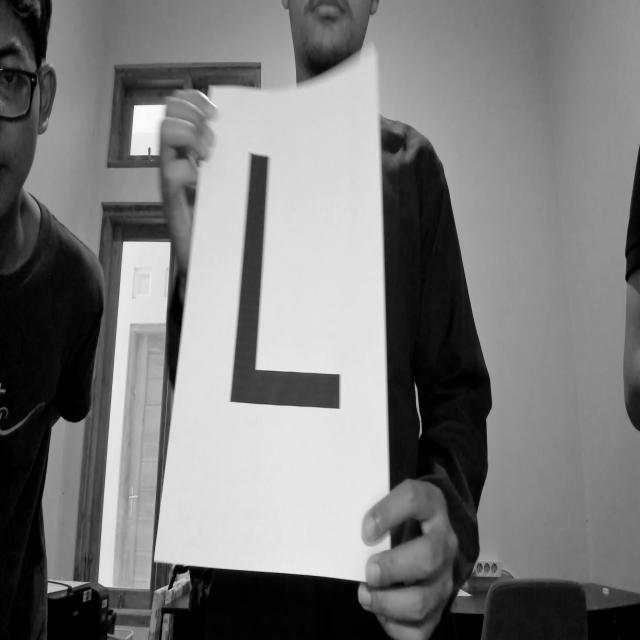l: (225, 128, 361, 450)
